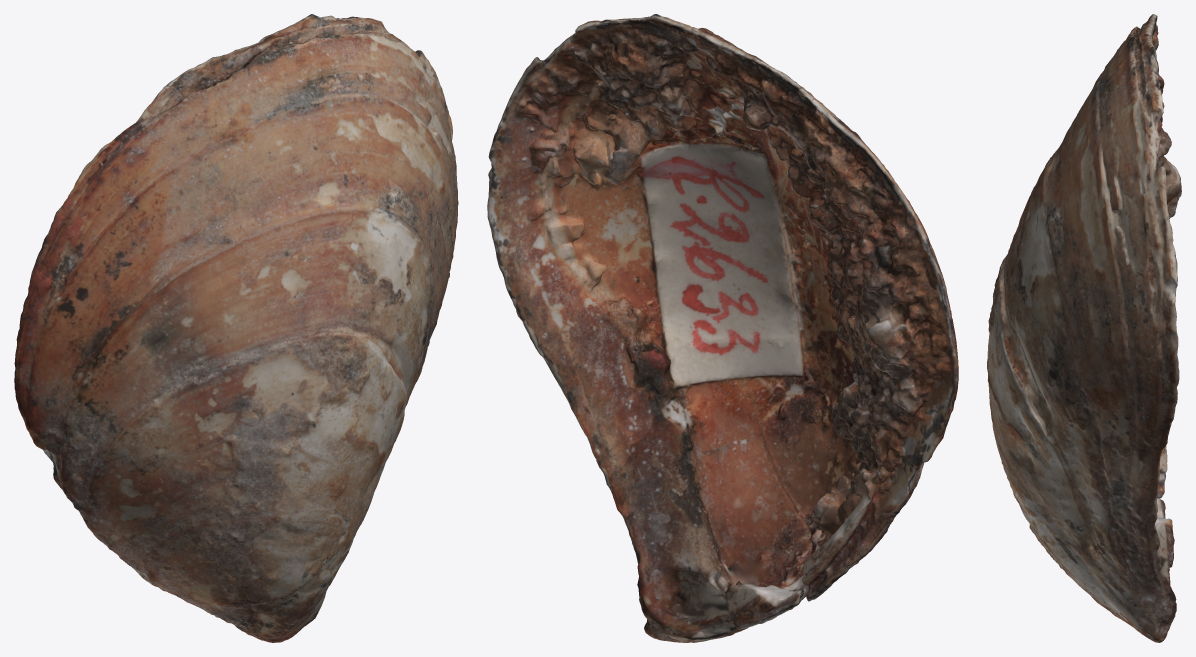
The model's file is EWS0011064.glb.
3 views of the same model, side by side, from view 1: azimuth 30°, elevation 25°; view 2: azimuth 150°, elevation 25°; view 3: azimuth 270°, elevation 25° (orthographic). The views are drawn at different scales.
Visible parts, largest first — view 1: input; view 2: input; view 3: input.
Boxes of the visible parts, x1,y1,x2,y2 form: input: (14,14,458,642); input: (487,14,958,642); input: (987,14,1181,642).
Bounding box in the file's own units: 0.023 × 0.0297 × 0.0088.
1 material, 1 textured.
